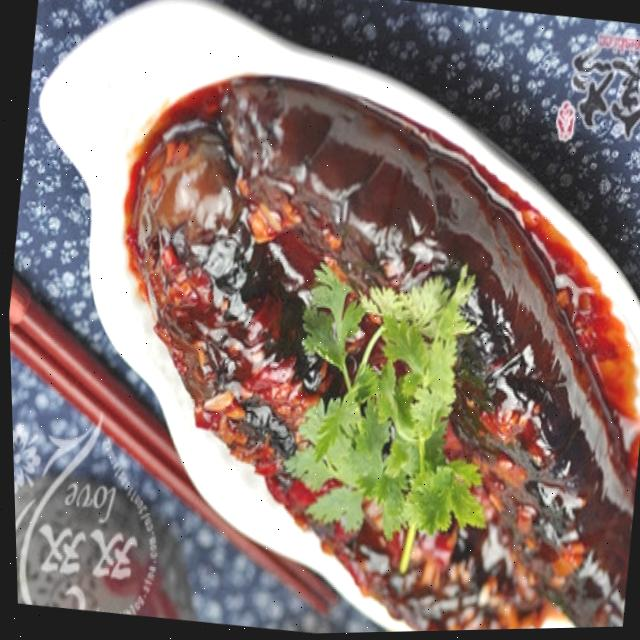鸡蛋料理: (20, 19, 640, 640)
